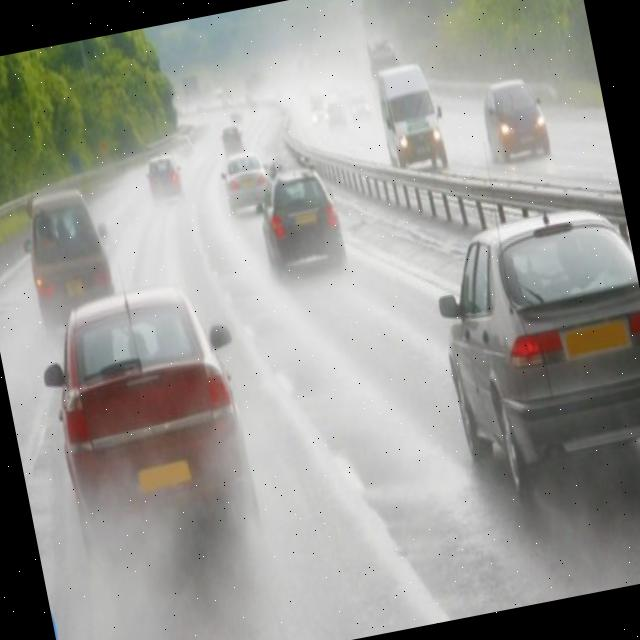bus: (364, 38, 412, 110)
car: (28, 275, 270, 583), (422, 192, 640, 503), (16, 183, 120, 334), (252, 162, 348, 280), (369, 61, 448, 178), (476, 74, 552, 167), (218, 148, 274, 218), (144, 154, 182, 200), (348, 92, 372, 121), (172, 130, 195, 159), (326, 99, 346, 126), (308, 104, 329, 126)
